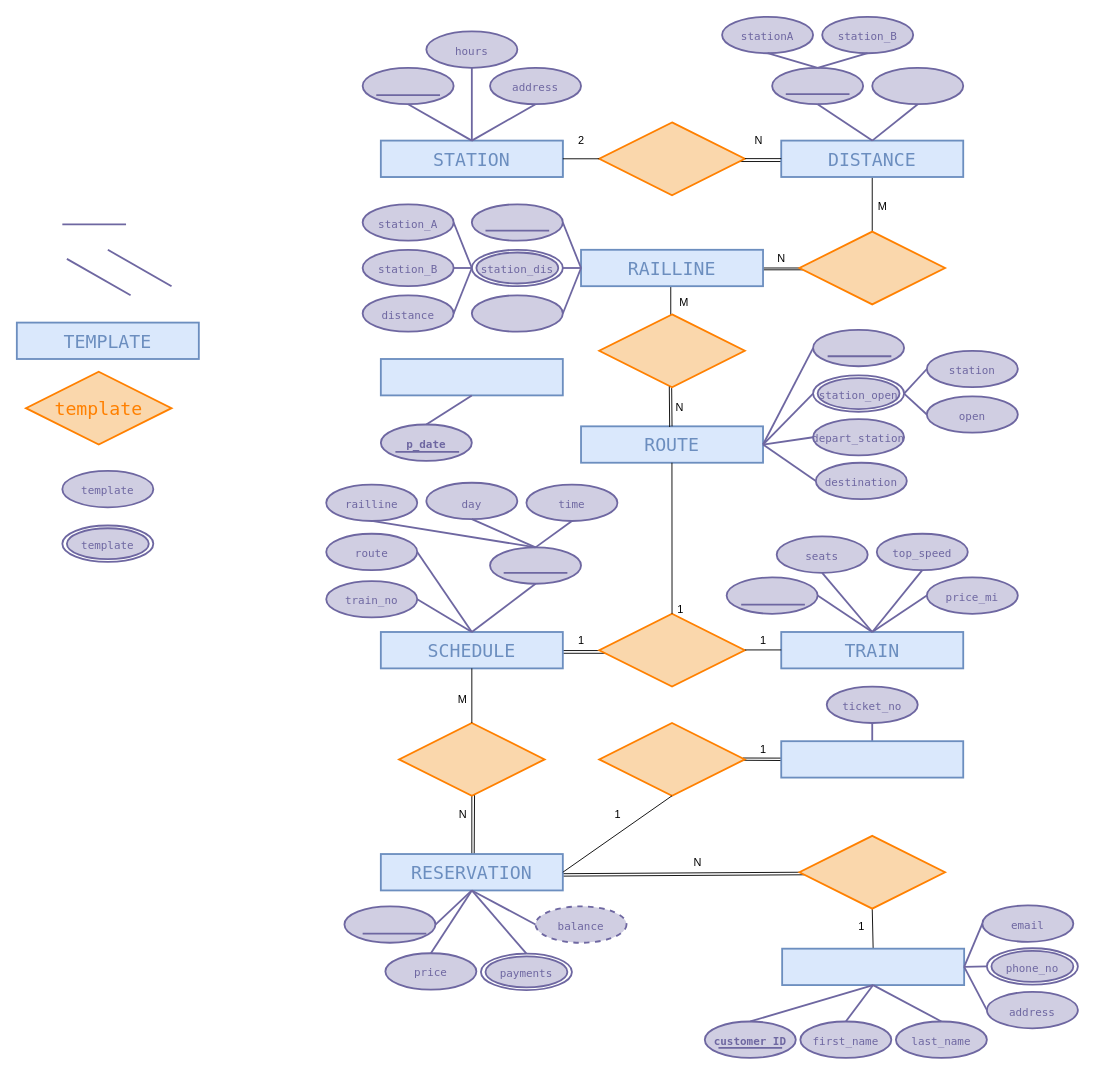
This 1094x1074 diagram has some shape labels left out. The centre of each missing label's shape, as x and y in pixels:
books: the point at 871,871
CLOCK: the point at 471,377
consists_of: the point at 871,267
has: the point at 671,158
issues: the point at 671,759
miles: the point at 917,85
PASSENGER: the point at 873,966
rail_ID: the point at 516,222
RDT: the point at 535,565
references: the point at 471,759
requires: the point at 671,649
reserv_no: the point at 389,924
route_ID: the point at 858,348
speed: the point at 516,313
station_no: the point at 407,85
stationA-stationB: the point at 817,85
TICKET: the point at 872,759
train_ID: the point at 771,595
traverses: the point at 671,350
